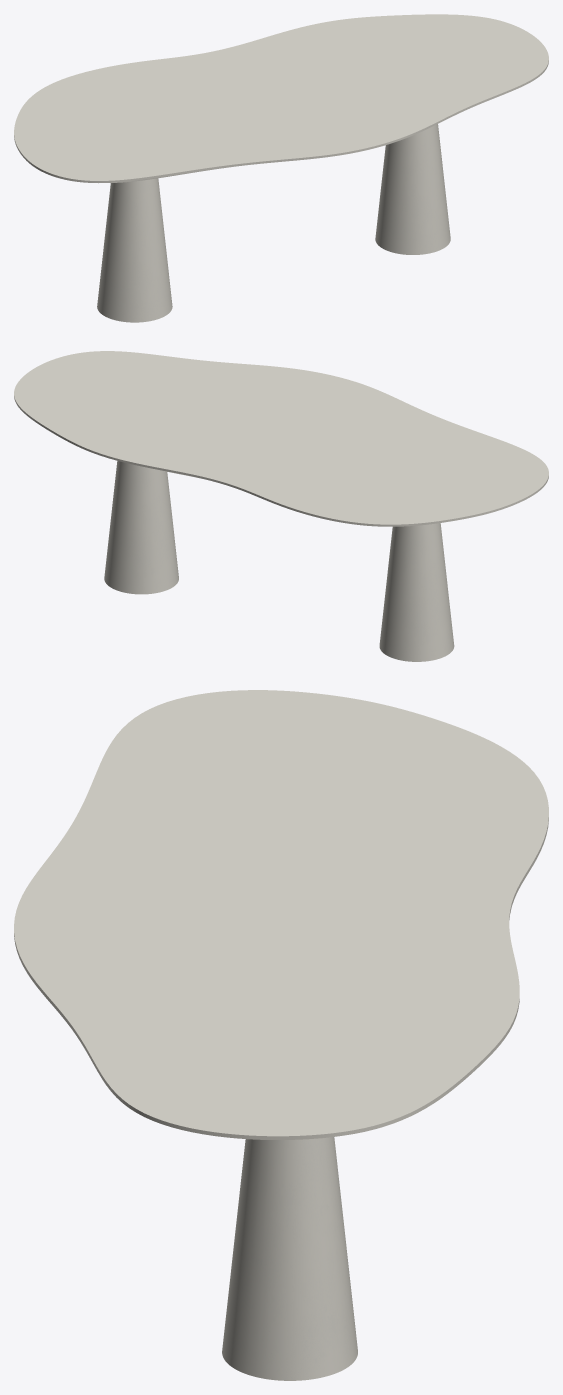
Rendered from pale_toplast_facet_pebble.glb.
The picture shows the model from 3 angles, top to bottom: view 1: azimuth 30°, elevation 25°; view 2: azimuth 150°, elevation 25°; view 3: azimuth 270°, elevation 25°; orthographic projection. The views are drawn at different scales.
Parts seen in each view (by area): view 1: facet_toplast, pebble; view 2: facet_toplast, pebble; view 3: facet_toplast, pebble.
Boxes of the visible parts, x1,y1,x2,y2 form: facet_toplast: (14, 14, 548, 183); pebble: (97, 124, 450, 322); facet_toplast: (14, 351, 548, 526); pebble: (104, 461, 454, 661); facet_toplast: (14, 690, 548, 1139); pebble: (222, 1137, 357, 1380).
Bounding box in the file's own units: 7.5 × 2.5 × 3.8.
1 material, 1 textured.
